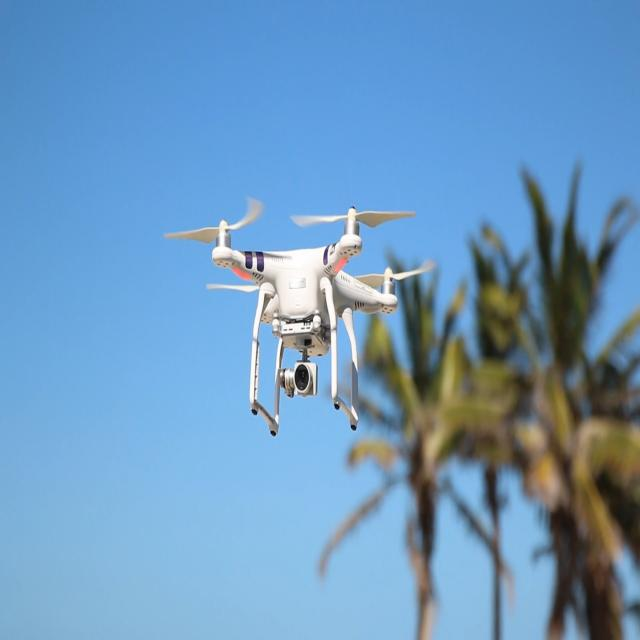Drone: (158, 174, 456, 445)
